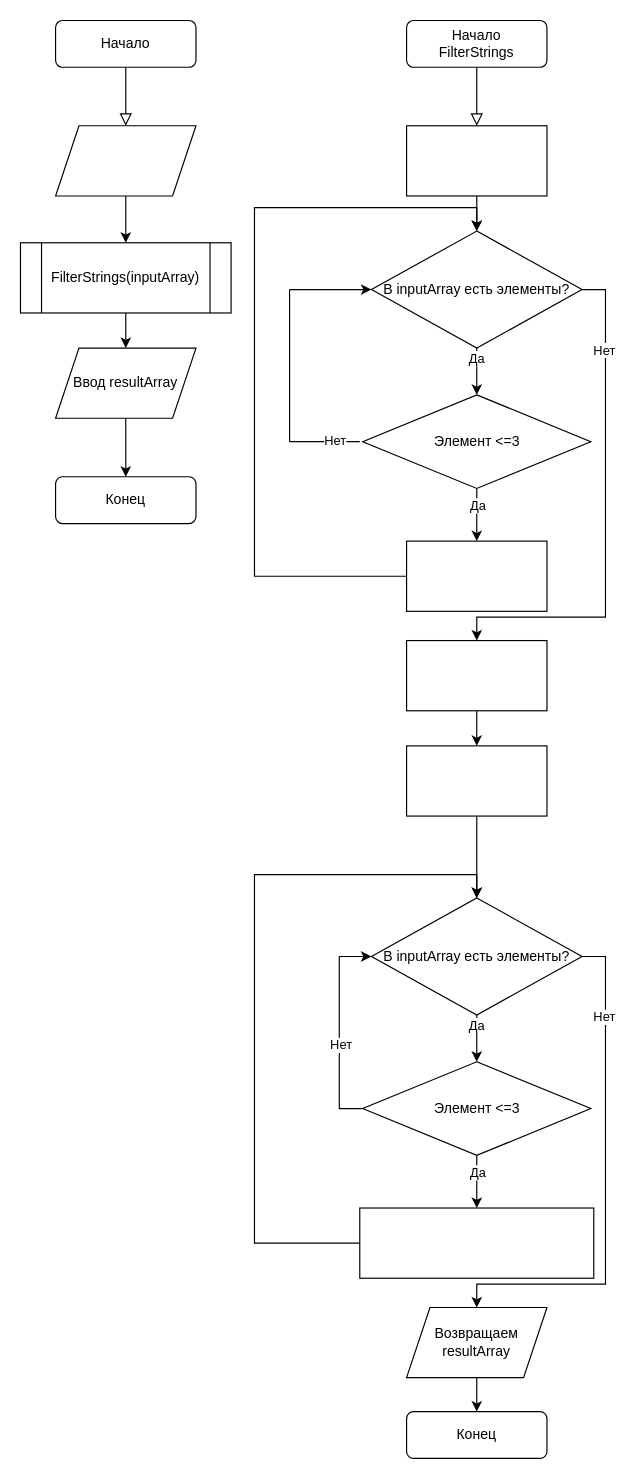
The diagram is 635 pixels wide and 1479 high, and some of its shapes have lost their labels. Here are the shapes that lost their labels. From the top down, the centre of each, then its label:
At (125,160): "Ввод inputArray".
At (476,160): "count = 0".
At (476,575): "count++".
At (476,675): "Создаем массив resultArray длиной count".
At (476,780): "index =0".
At (476,1242): "resultArray[index] = элемент index++".
